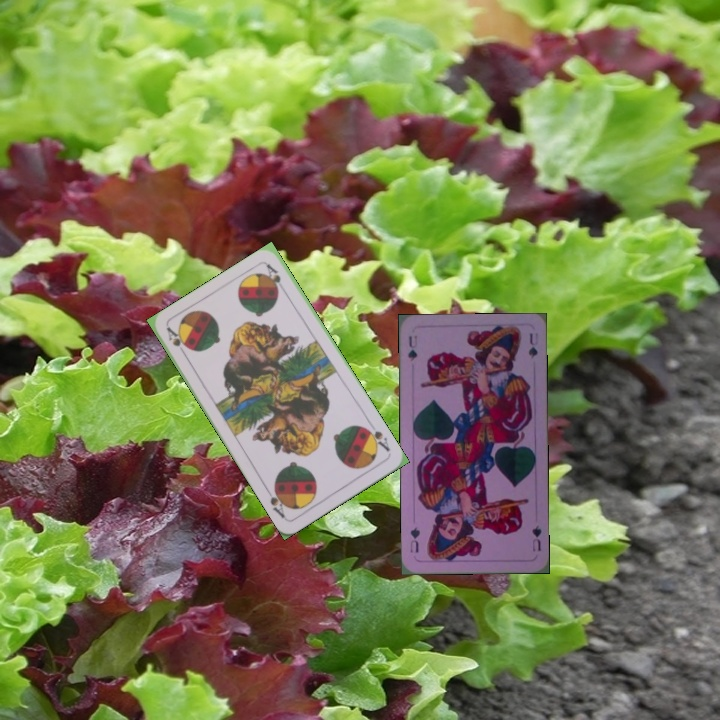GU: (404, 331, 420, 364), (528, 522, 544, 554)
SA: (162, 323, 191, 360), (360, 423, 392, 454)
